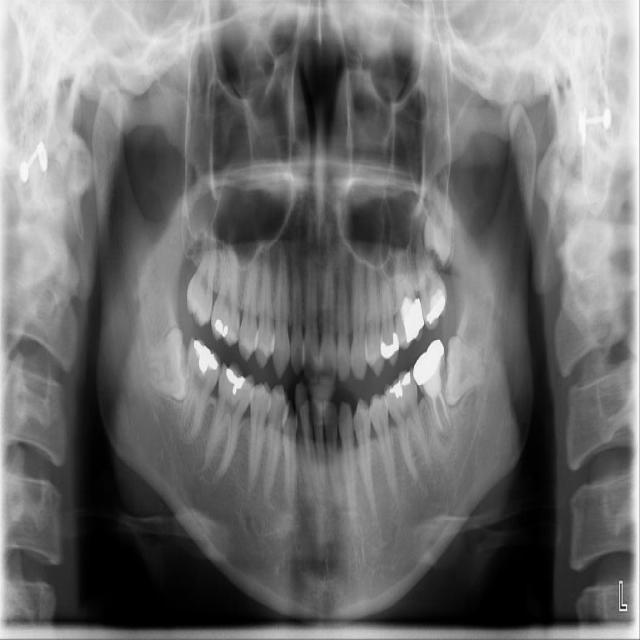Crown: (413, 339, 445, 387)
Filling: (399, 296, 428, 345), (192, 336, 220, 375), (388, 370, 412, 401), (379, 333, 399, 366), (427, 290, 444, 328), (226, 368, 250, 392), (214, 319, 231, 339)
Root Canal Treatment: (433, 403, 447, 439), (442, 397, 451, 434)
impacted tooth: (447, 336, 492, 409), (143, 329, 188, 397), (424, 177, 456, 262)
